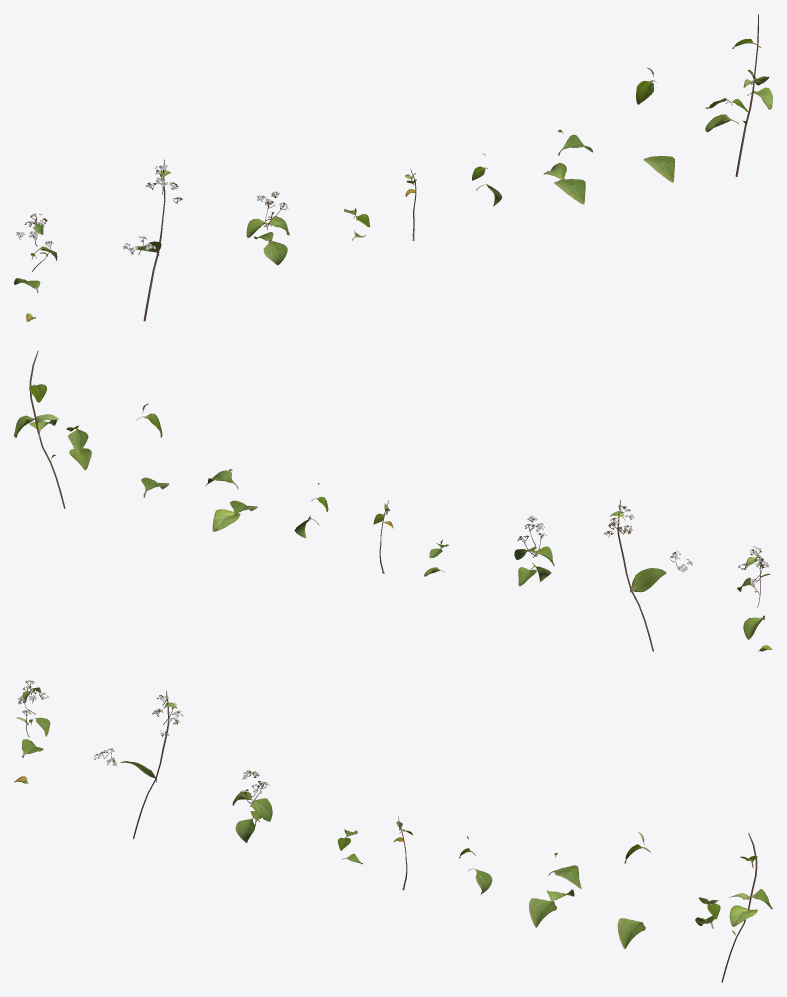
Rendered from shrub_01.glb.
3 views of the same model, one above another, from view 1: azimuth 30°, elevation 25°; view 2: azimuth 150°, elevation 25°; view 3: azimuth 330°, elevation 25° (orthographic).
Parts seen in each view (by area): view 1: shrub_01_a; view 2: shrub_01_a; view 3: shrub_01_a.
Boxes of the visible parts, <box> form: shrub_01_a: <box>14,14,772,321</box>; shrub_01_a: <box>14,350,772,651</box>; shrub_01_a: <box>14,680,772,982</box>.
Size of the model in its own units: 2.53 by 0.4981 by 0.2097.
Materials: 1 (1 with a texture image).
